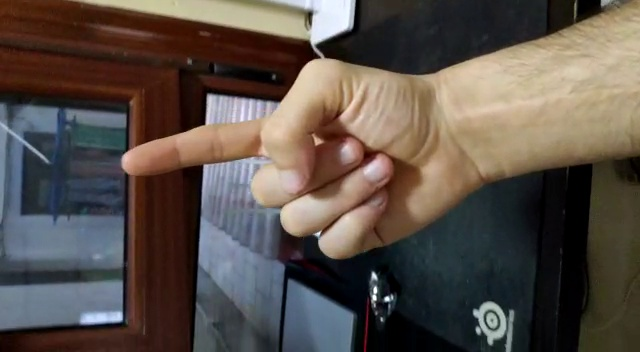One: (118, 107, 305, 186)
